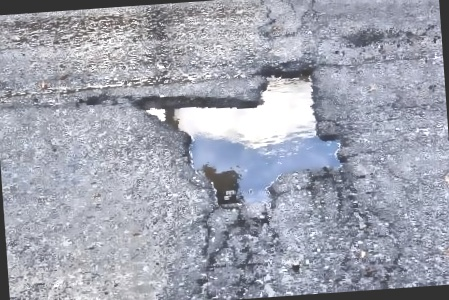pothole: (130, 58, 353, 221)
